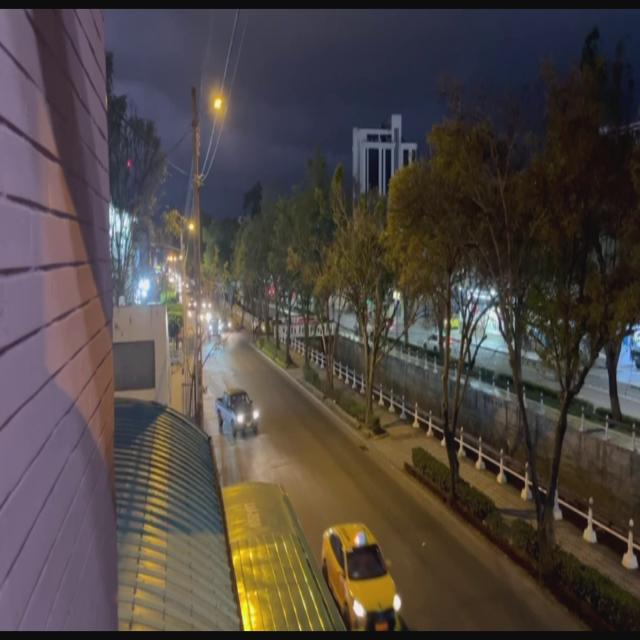CMT: (215, 388, 258, 438)
